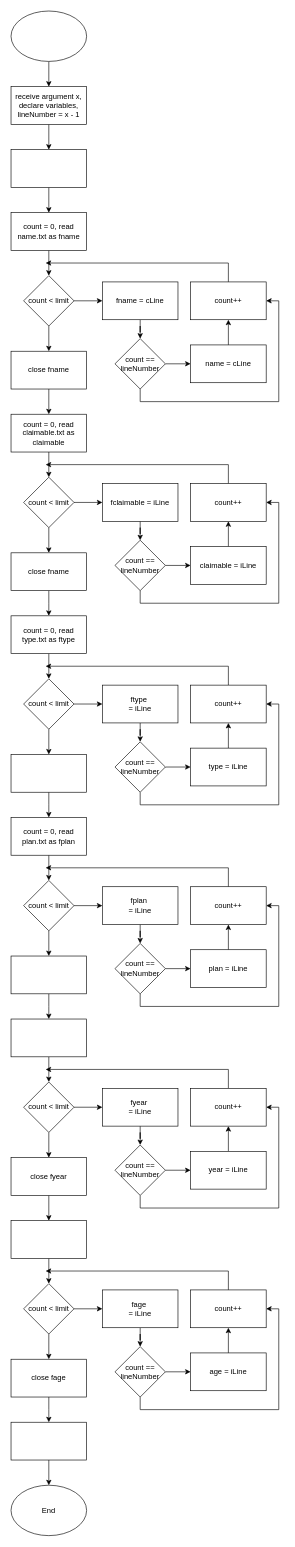
Some shapes in this 295 by 1547 pixel diagram are drawn without their labels. Here are the shapes that lost their labels. From the top down, the centre of each, then its label:
[48,35]: Start
[48,168]: read nextid.txt as fidlimit, read to the variable limit
[48,773]: close ftype
[48,974]: close fplan
[48,1037]: count = 0, read year.txt as fyear
[48,1239]: count = 0, read age.txt as fage
[48,1441]: print subscriber's records
